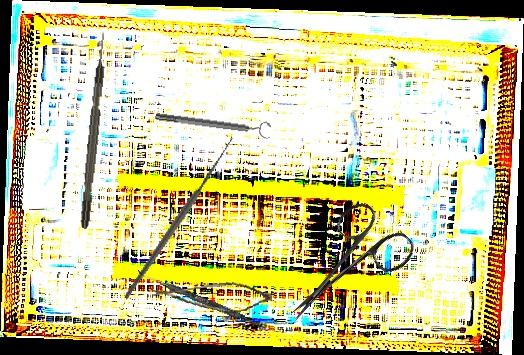Fixation Ring: (154, 106, 272, 141)
Hook Surgical: (77, 126, 277, 302), (78, 31, 110, 229)
Iris Scissors: (265, 192, 420, 348)
Micro Scissor: (148, 270, 274, 326)
Spatula Surgical: (135, 270, 268, 330)
